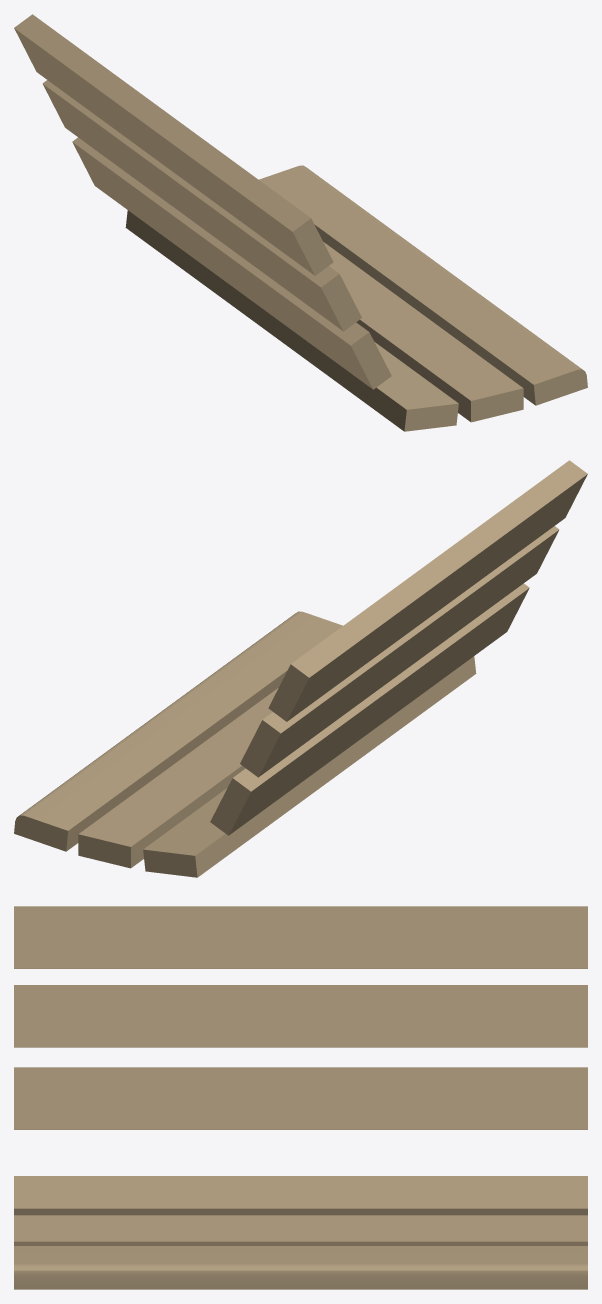
Rendered from benchPlanks.fbx.
The picture shows the model from 3 angles, top to bottom: view 1: azimuth 30°, elevation 25°; view 2: azimuth 150°, elevation 25°; view 3: azimuth 270°, elevation 25°; orthographic projection. The views are drawn at different scales.
Visible parts, largest first — view 1: WoodPiece5, WoodPiece0, WoodPiece2, WoodPiece1, WoodPiece4, WoodPiece3; view 2: WoodPiece5, WoodPiece0, WoodPiece2, WoodPiece1, WoodPiece4, WoodPiece3; view 3: WoodPiece0, WoodPiece1, WoodPiece2, WoodPiece5, WoodPiece3, WoodPiece4.
Boxes of the visible parts, x1=… form: WoodPiece5: x1=259, y1=165, x2=587, y2=405; WoodPiece0: x1=14, y1=14, x2=333, y2=275; WoodPiece2: x1=72, y1=137, x2=391, y2=389; WoodPiece1: x1=42, y1=80, x2=361, y2=331; WoodPiece4: x1=323, y1=242, x2=523, y2=422; WoodPiece3: x1=125, y1=210, x2=458, y2=431; WoodPiece5: x1=14, y1=611, x2=342, y2=851; WoodPiece0: x1=268, y1=460, x2=587, y2=721; WoodPiece2: x1=210, y1=583, x2=529, y2=835; WoodPiece1: x1=240, y1=526, x2=559, y2=777; WoodPiece4: x1=78, y1=688, x2=278, y2=868; WoodPiece3: x1=143, y1=656, x2=476, y2=877; WoodPiece0: x1=14, y1=906, x2=587, y2=968; WoodPiece1: x1=14, y1=985, x2=587, y2=1047; WoodPiece2: x1=14, y1=1067, x2=587, y2=1129; WoodPiece5: x1=14, y1=1246, x2=587, y2=1289; WoodPiece3: x1=14, y1=1176, x2=587, y2=1215; WoodPiece4: x1=14, y1=1215, x2=587, y2=1245.
Bounding box in the file's own units: 1.7 × 1.34 × 2.79.
